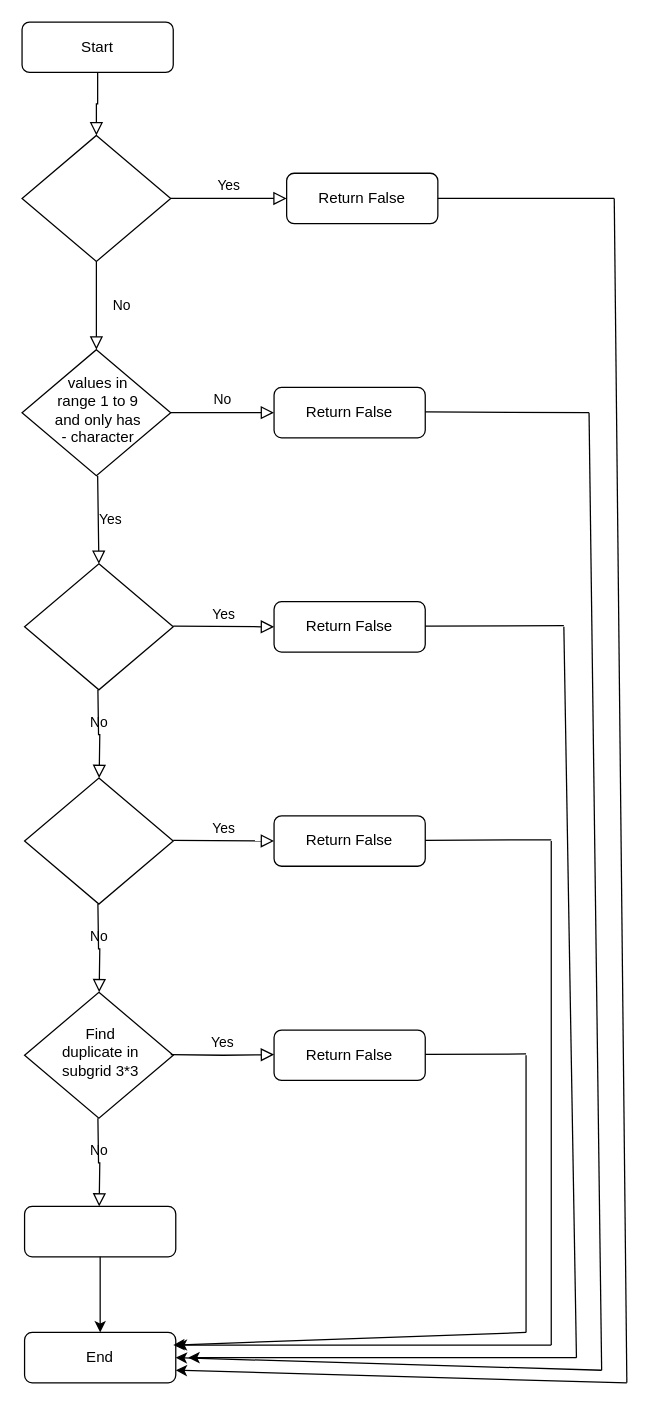
This 659x1415 diagram has some shape labels left out. The shapes that lost their labels are listed below. From the top down, each one's centre as x and y in pixels, then its label:
the point at 96,197: Sudoku size not equal 9
the point at 98,626: Find duplicate in rows
the point at 98,840: Find duplicate in column
the point at 99,1231: Return True
